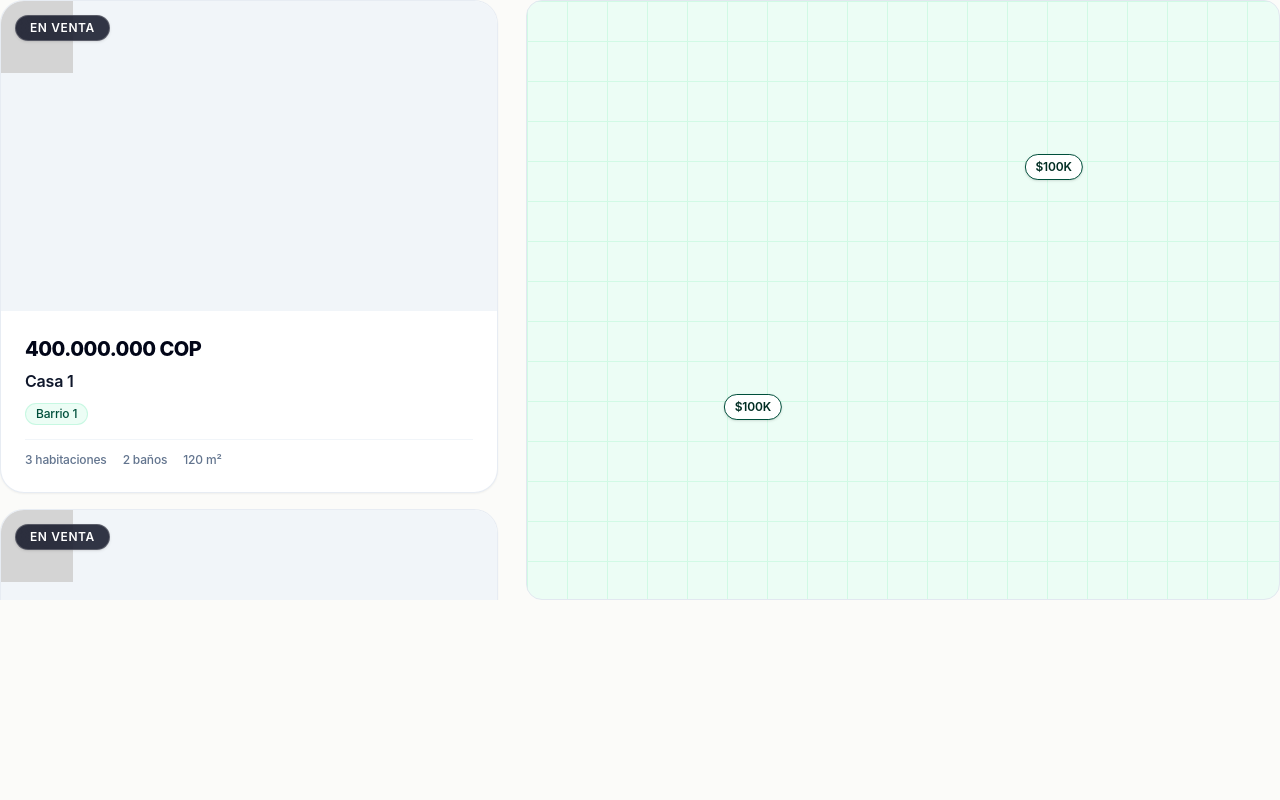
it: SearchMapView › shows the preview card with thumbnail, COP price, title, neighborhood and link on pin click
Click the button with test id "map-pin".
click(1054, 167)  # box [1024,154,1083,180]
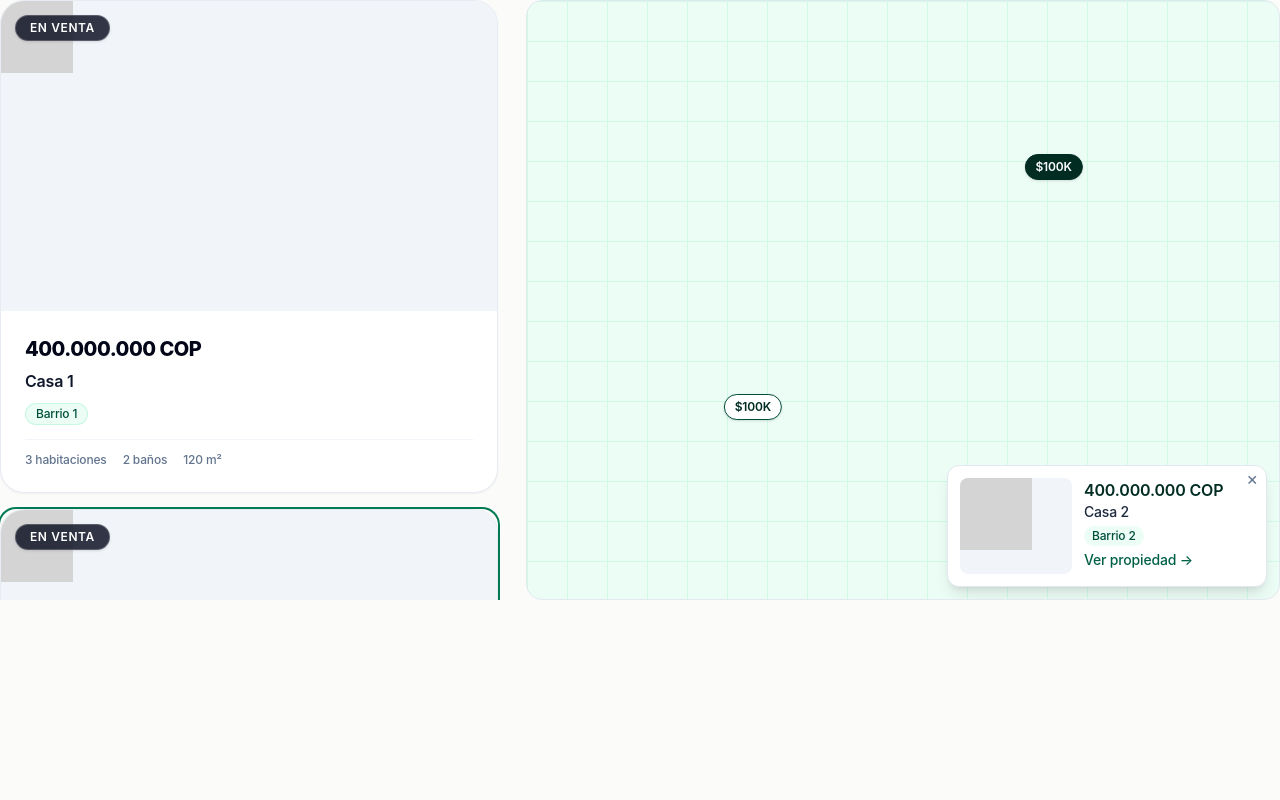
Expected: the 2nd text "400.000.000 COP" is shown, [1084,480,1223,500]
Expected: the heading "Casa 2" is shown, [1084,503,1129,520]
Expected: the text with test id "preview-neighborhood" reads "Barrio 2", [1092,528,1136,543]
